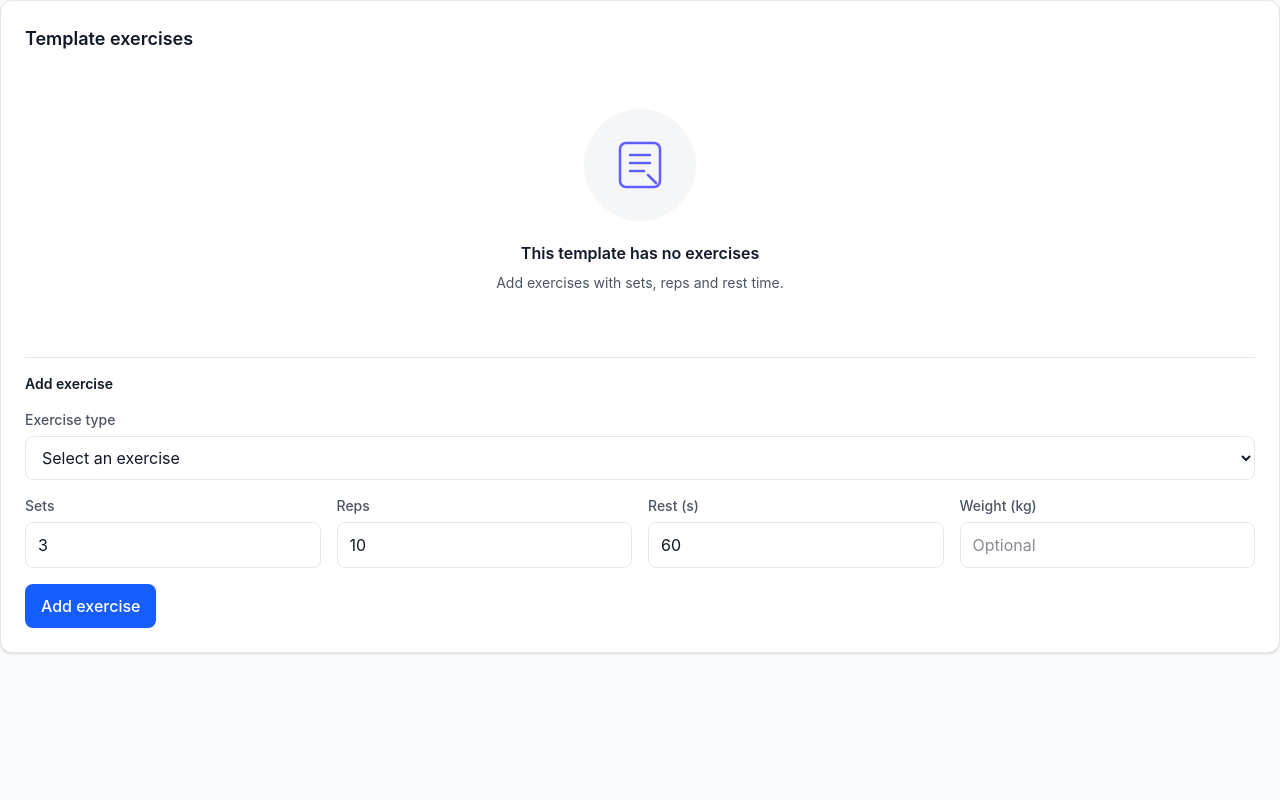
Test case: TemplateExercises › modo borrador › añade ejercicio al borrador
Select "Press banca" in the dropdown with id "template-exerciseTypeId" at (640, 458), box [25, 436, 1255, 480]
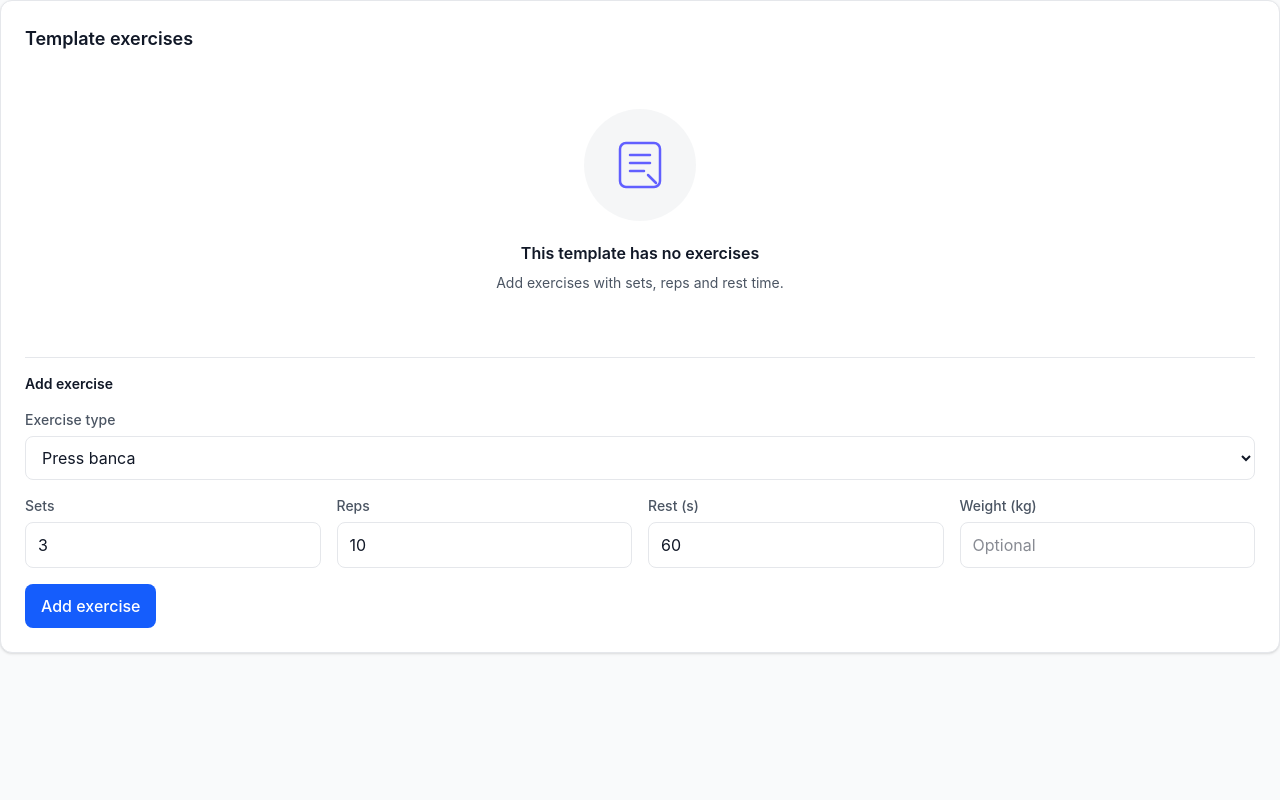
Replace the text in the number field with id "template-sets" with "4" at (173, 545), box [25, 522, 320, 568]
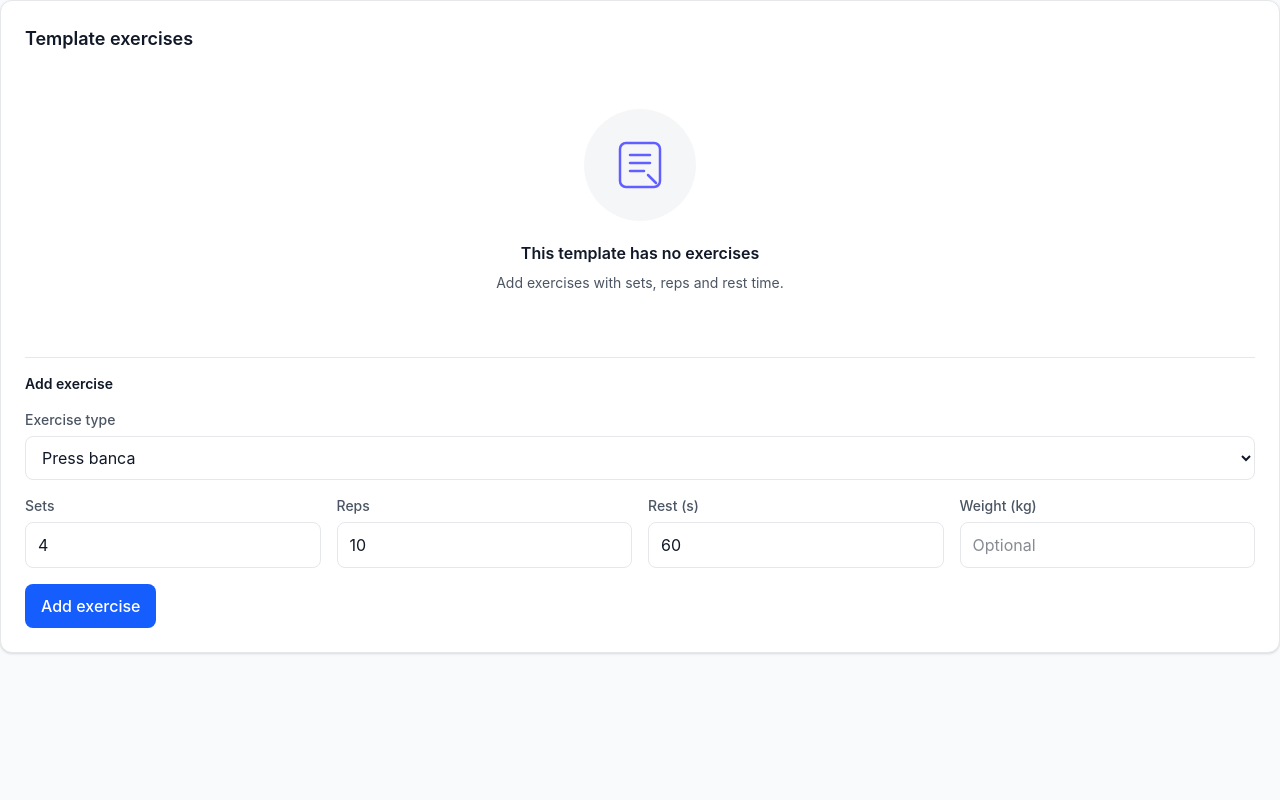
Replace the text in the number field with id "template-reps" with "8" at (484, 545), box [336, 522, 632, 568]
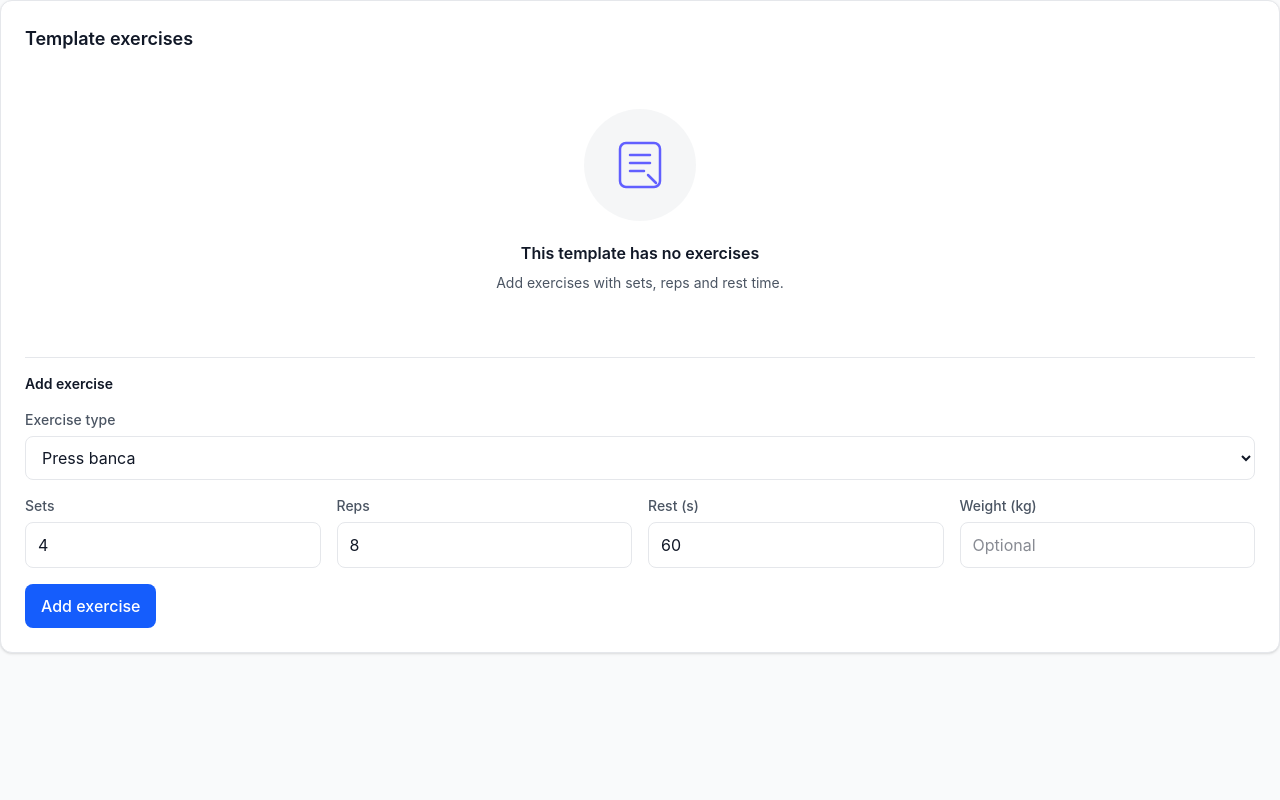
Replace the text in the number field with id "template-restSeconds" with "120" at (796, 545), box [648, 522, 944, 568]
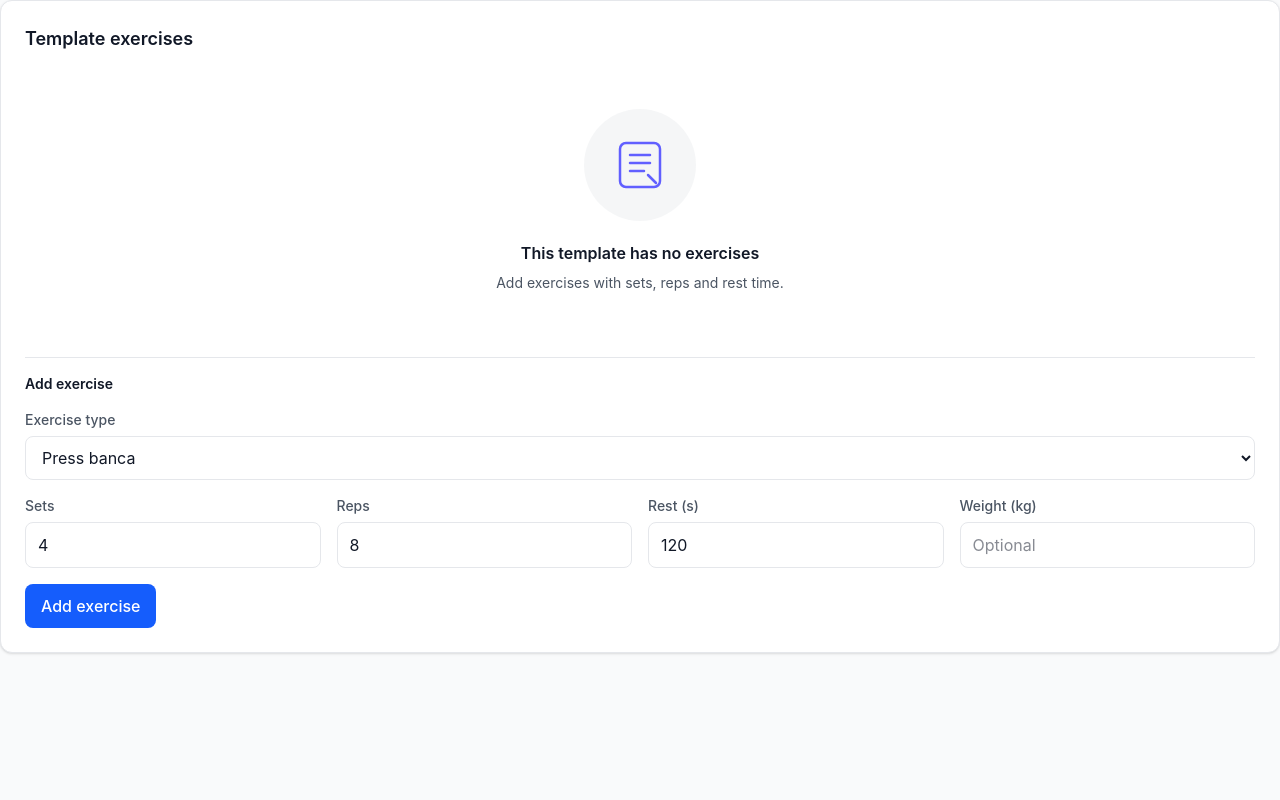
Type "60" into the number field with id "template-weight".
click(1107, 545); type("60")  # box [960, 522, 1255, 568]
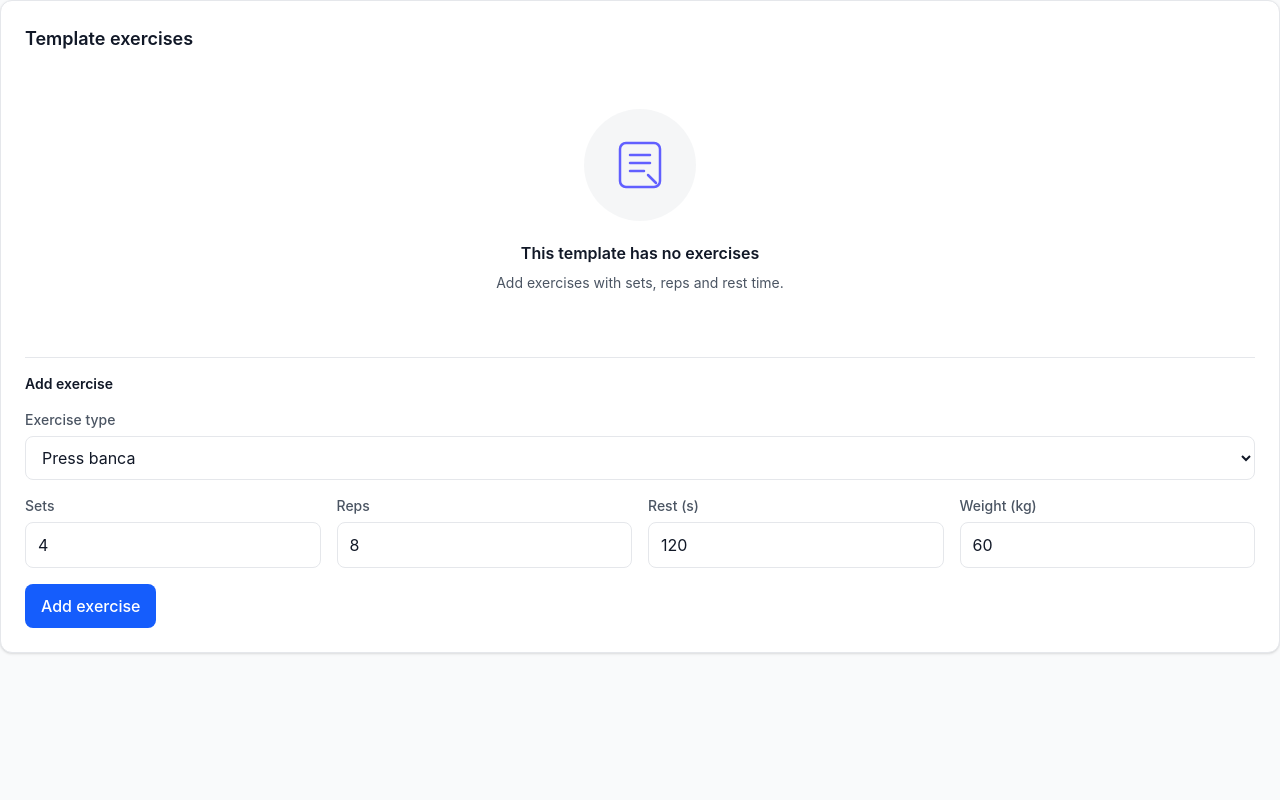
Submit the form, box [25, 357, 1255, 628]
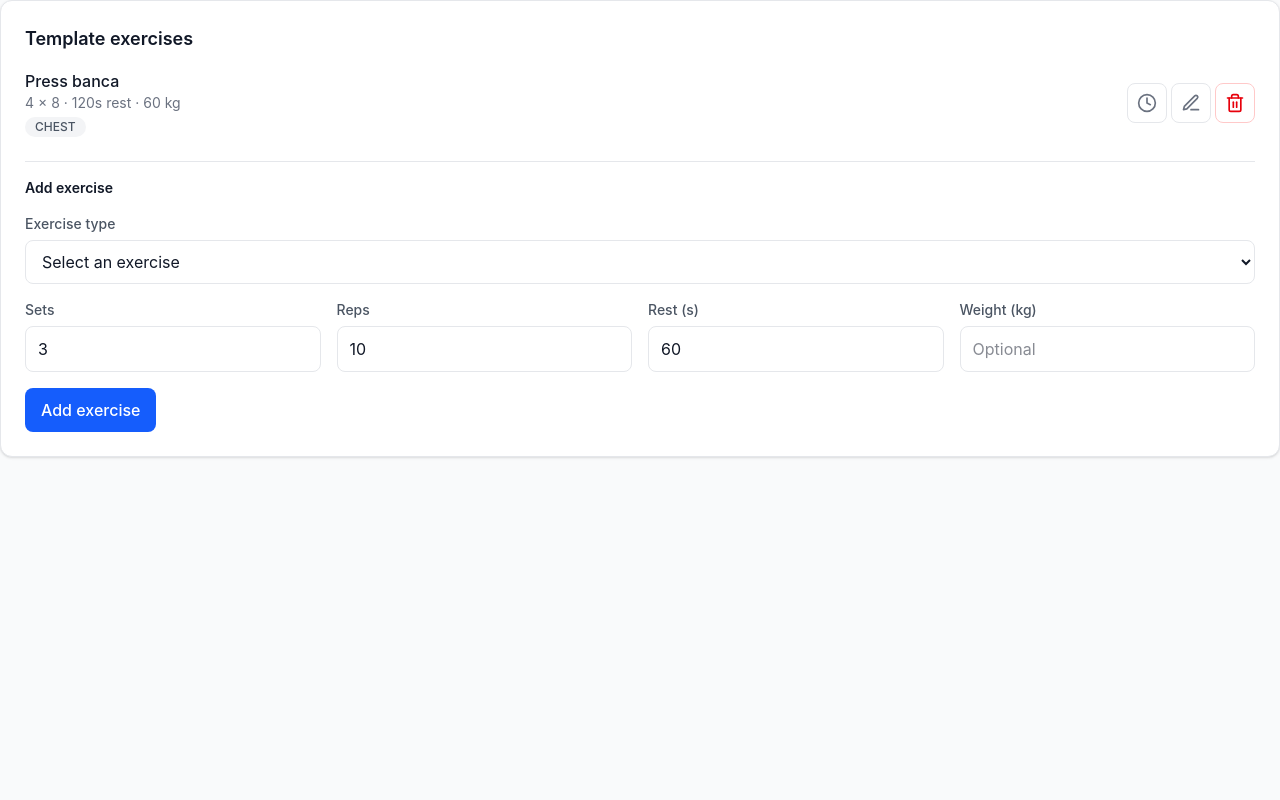
Check: the text "Press banca" is shown, box [25, 71, 119, 91]
